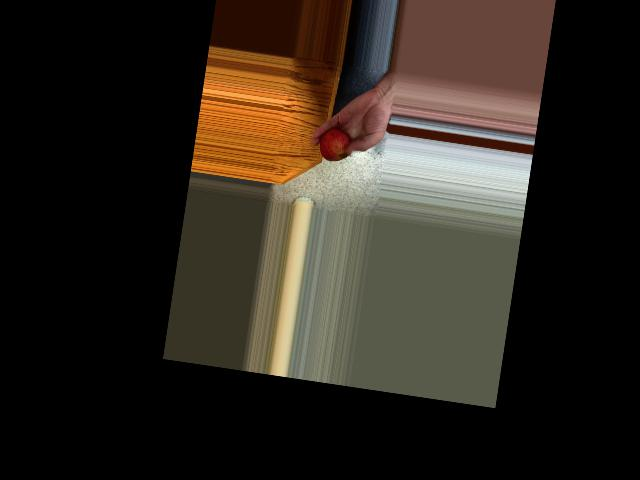apple: (318, 125, 355, 165)
